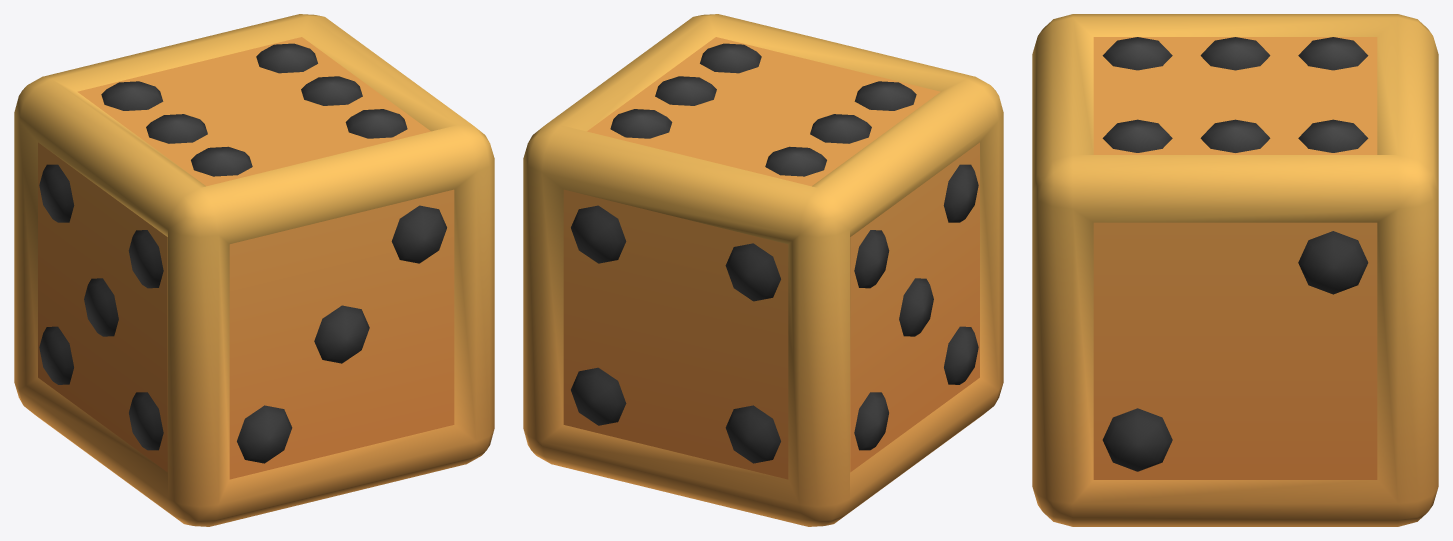
File: D6_B_yellow.fbx
The picture shows the model from 3 angles, left to right: view 1: azimuth 30°, elevation 25°; view 2: azimuth 150°, elevation 25°; view 3: azimuth 270°, elevation 25°; orthographic projection. The views are drawn at different scales.
Visible parts, largest first — view 1: D6_B_yellow; view 2: D6_B_yellow; view 3: D6_B_yellow.
Part boxes in pixels (left/top/right/bottom): D6_B_yellow: left=14, top=14, right=494, bottom=526; D6_B_yellow: left=523, top=14, right=1003, bottom=526; D6_B_yellow: left=1032, top=14, right=1438, bottom=526.
Size of the model in its own units: 0.75 by 0.75 by 0.75.
